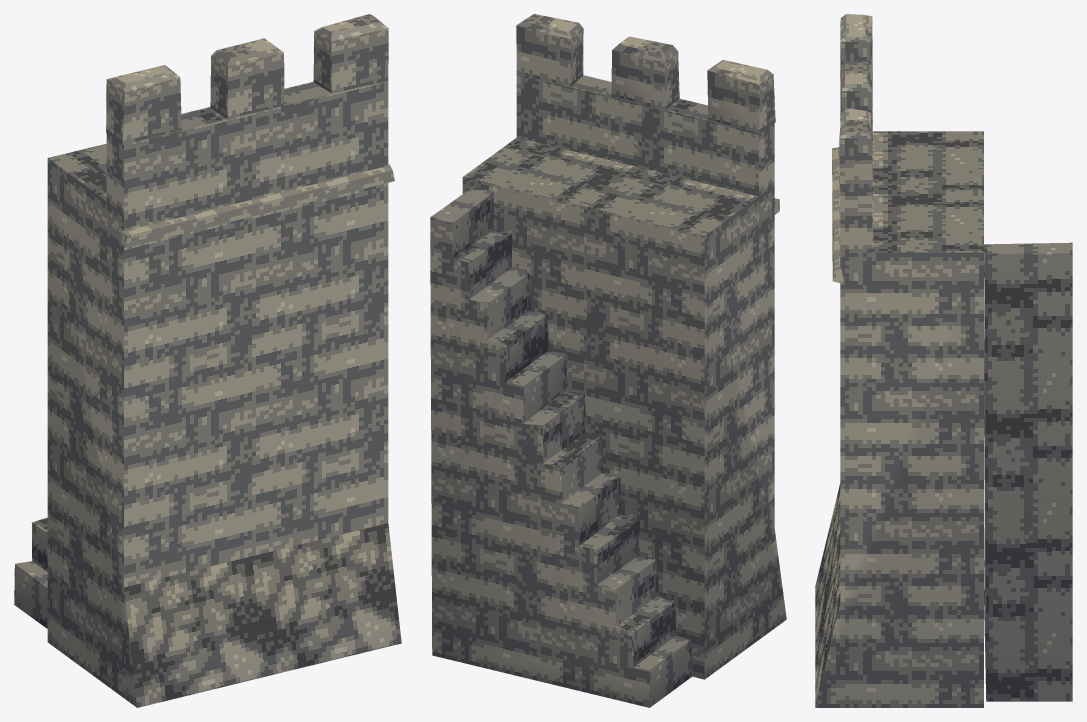
File: cst.curtain__stair.glb
3 views of the same model, side by side, from view 1: azimuth 30°, elevation 25°; view 2: azimuth 150°, elevation 25°; view 3: azimuth 270°, elevation 25° (orthographic). The views are drawn at different scales.
Visible parts, largest first — view 1: kit_wall, kit_top, kit_detail; view 2: kit_wall, kit_detail, kit_top; view 3: kit_wall, kit_detail, kit_top.
Part boxes in pixels (<box>): kit_wall: <box>47,81,401,707</box>; kit_top: <box>106,14,388,144</box>; kit_detail: <box>14,164,394,628</box>; kit_wall: <box>462,74,786,679</box>; kit_detail: <box>430,187,779,707</box>; kit_top: <box>516,14,775,133</box>; kit_wall: <box>815,68,983,707</box>; kit_detail: <box>832,147,1072,701</box>; kit_top: <box>839,14,872,187</box>.
Size of the model in its own units: 4.07 by 8.85 by 3.59.
4 materials, 4 textured.
